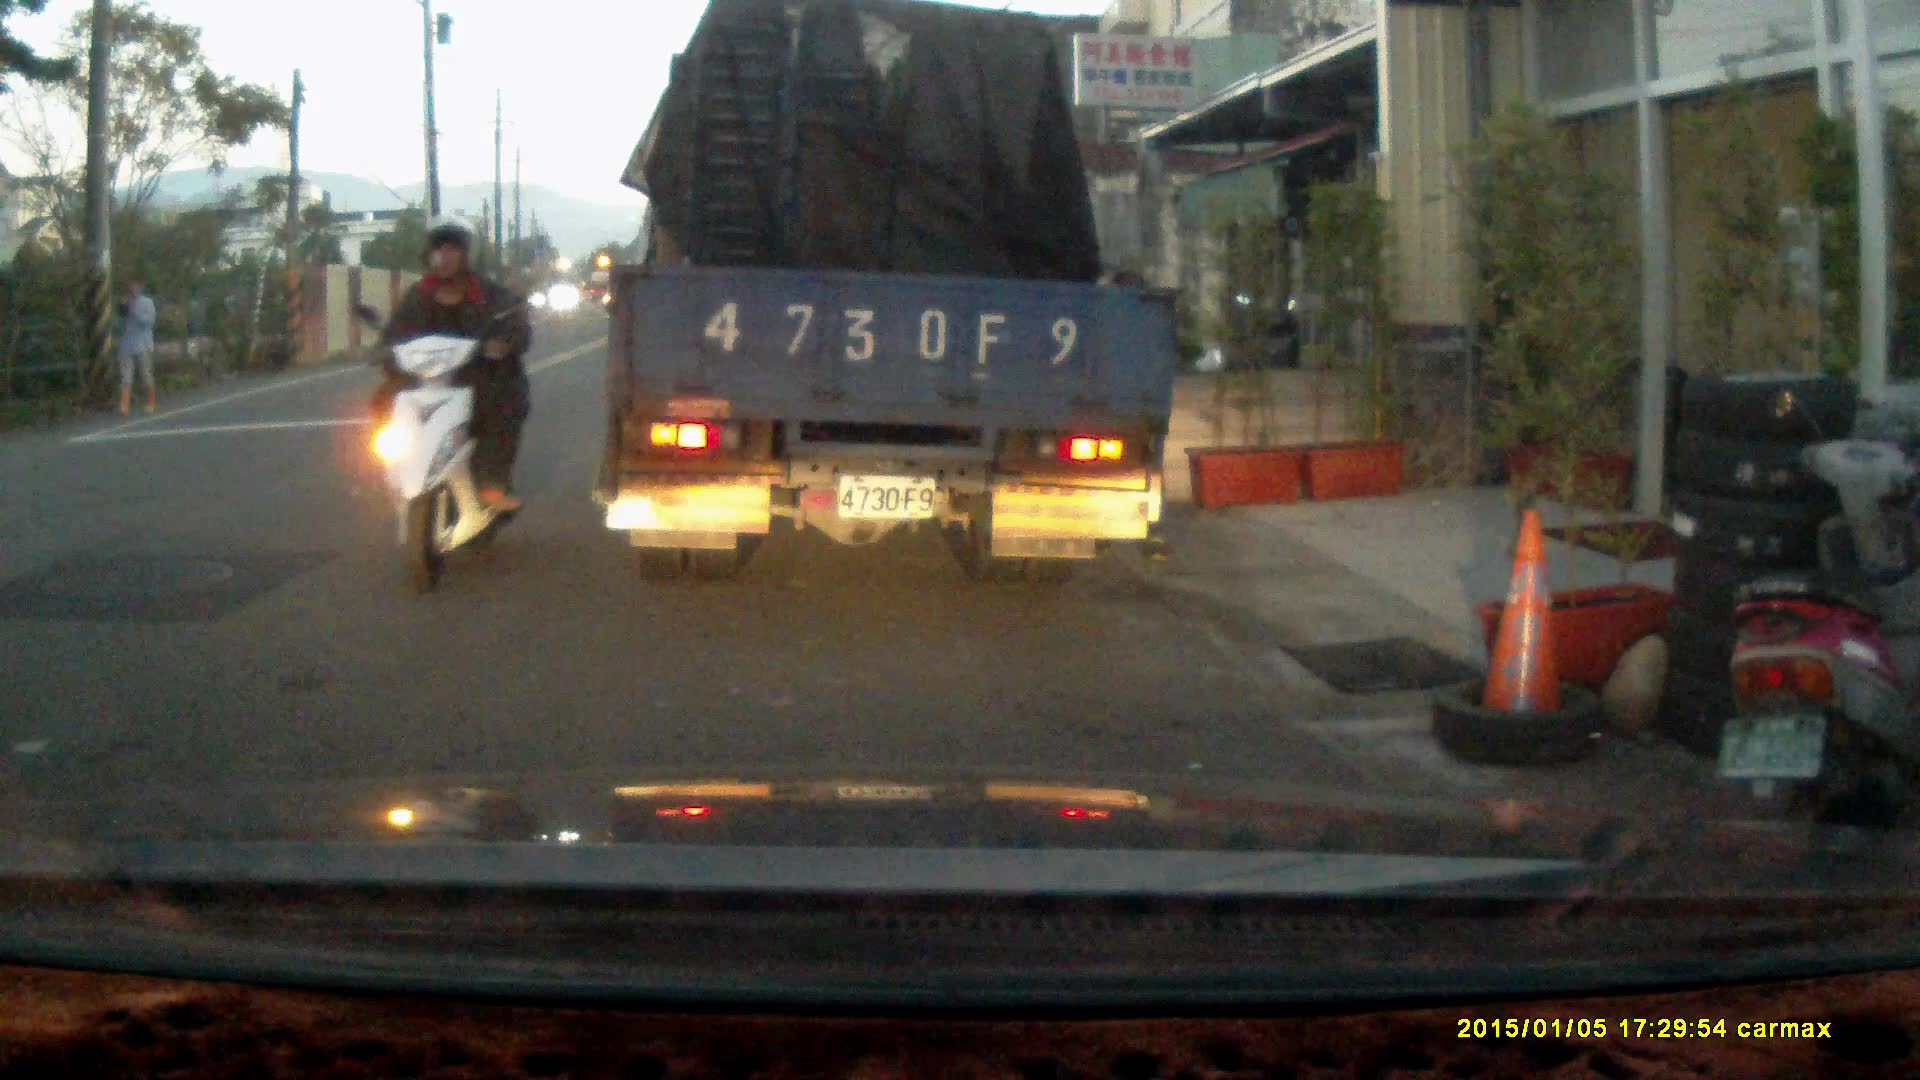pedestrian: (109, 271, 161, 419)
rider: (345, 211, 537, 600)
vehicle: (602, 23, 1188, 572)
